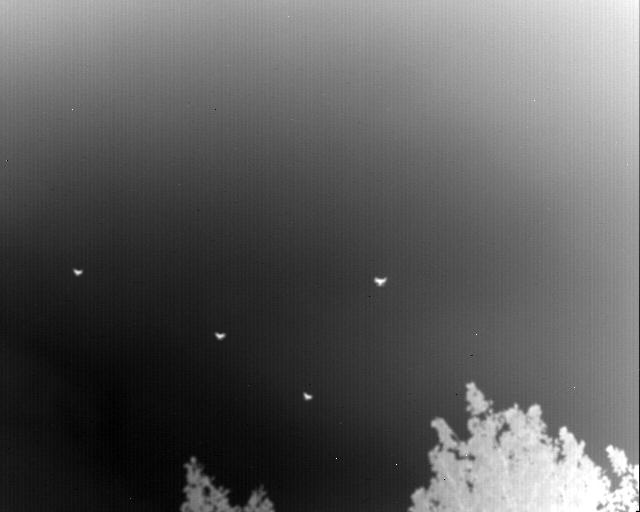plane: (374, 276, 387, 287), (215, 330, 226, 339), (303, 392, 313, 401), (73, 267, 84, 275)
